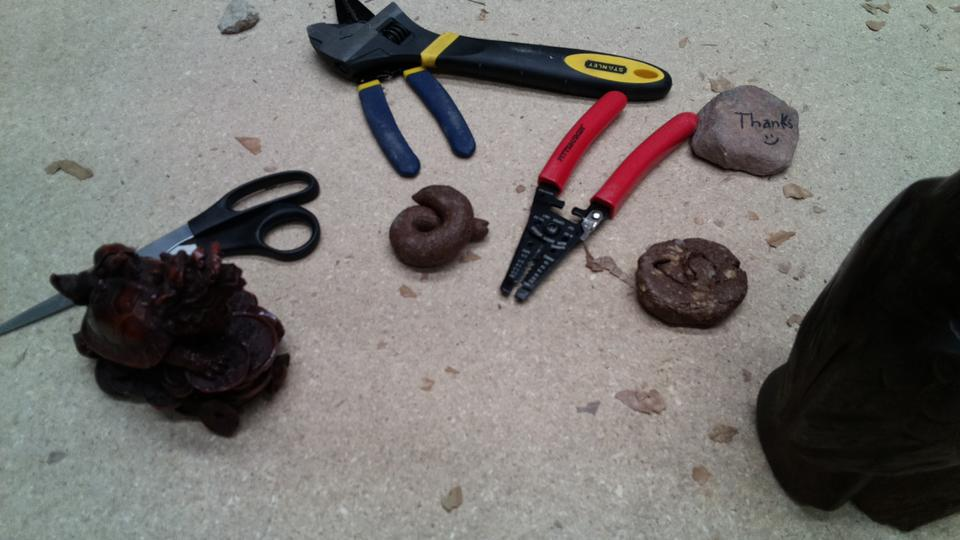poop: (631, 233, 750, 330), (385, 181, 489, 274)
